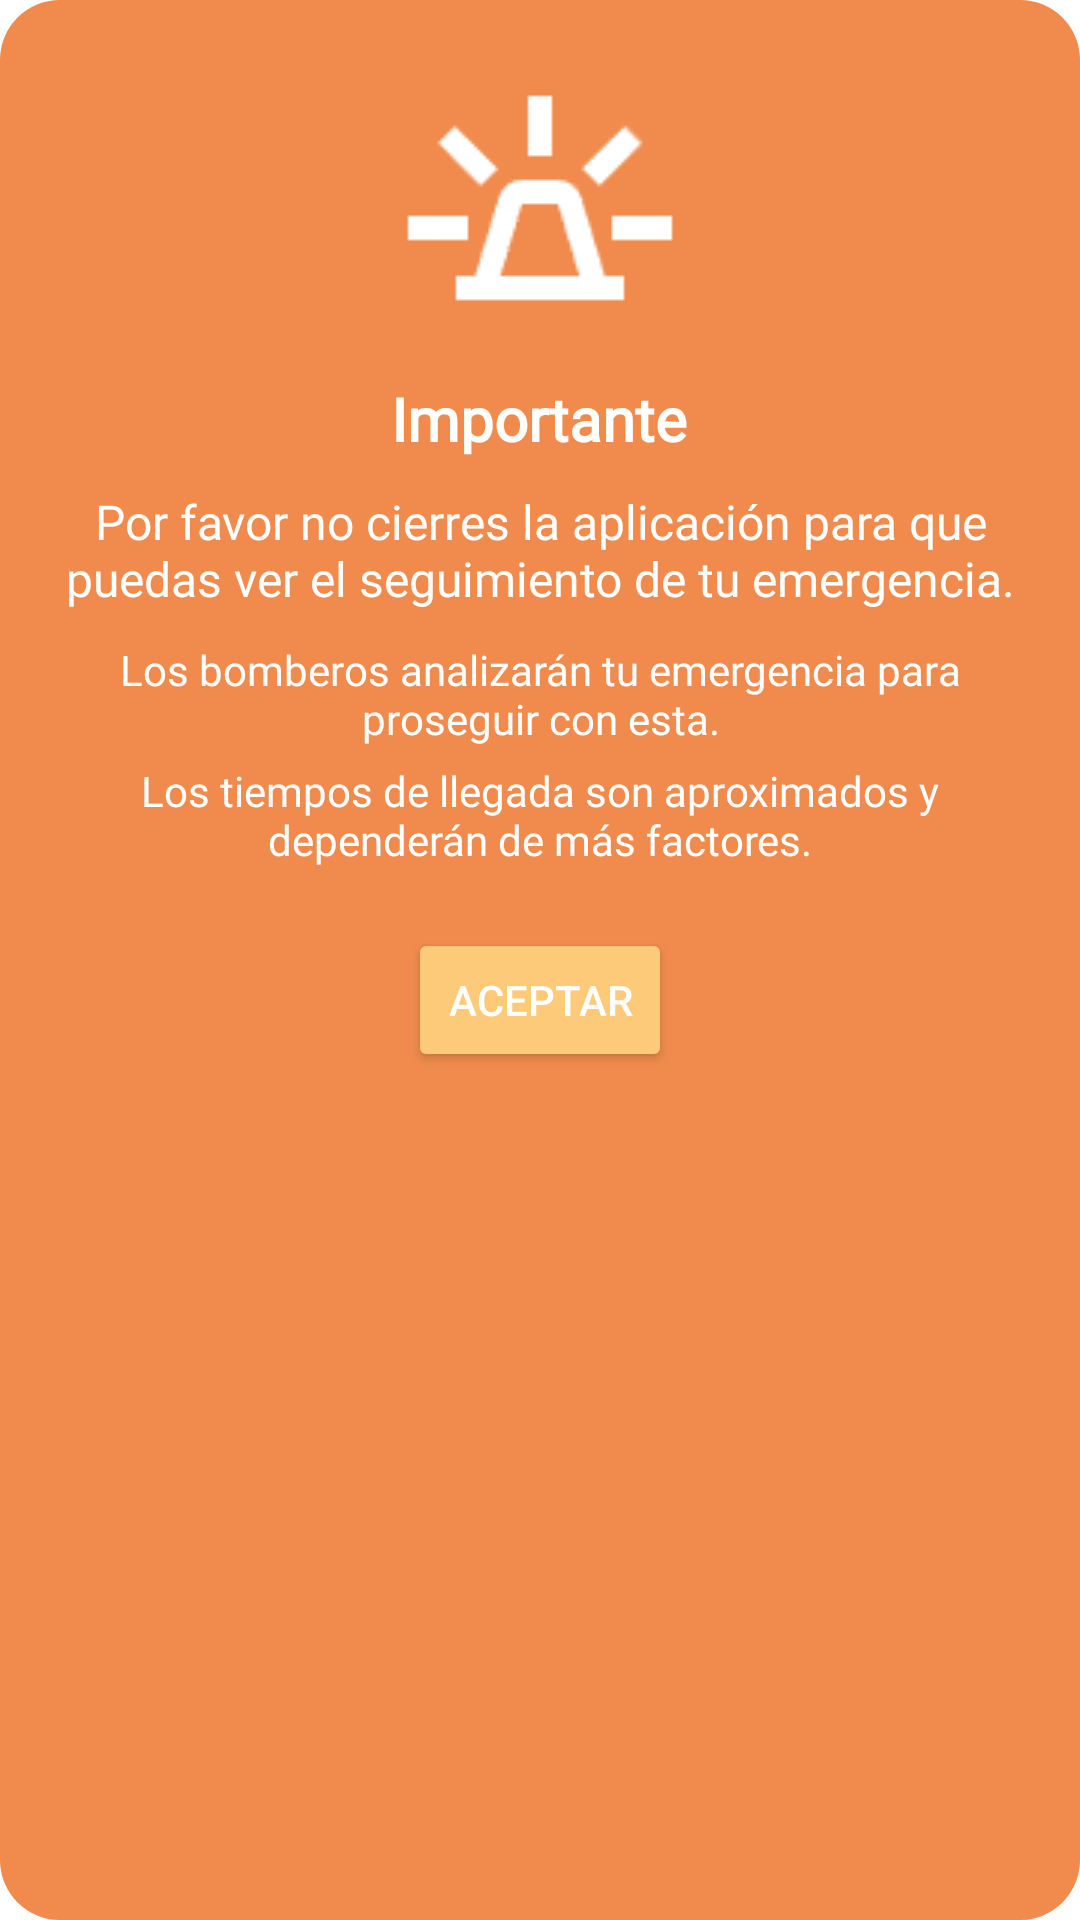

Icon bounding boxes for this 1080px×1920px phone screenshot, format {"left": x1, "top": y1, "right": x2, "bottom": y2}:
emergency: {"left": 407, "top": 95, "right": 673, "bottom": 301}
